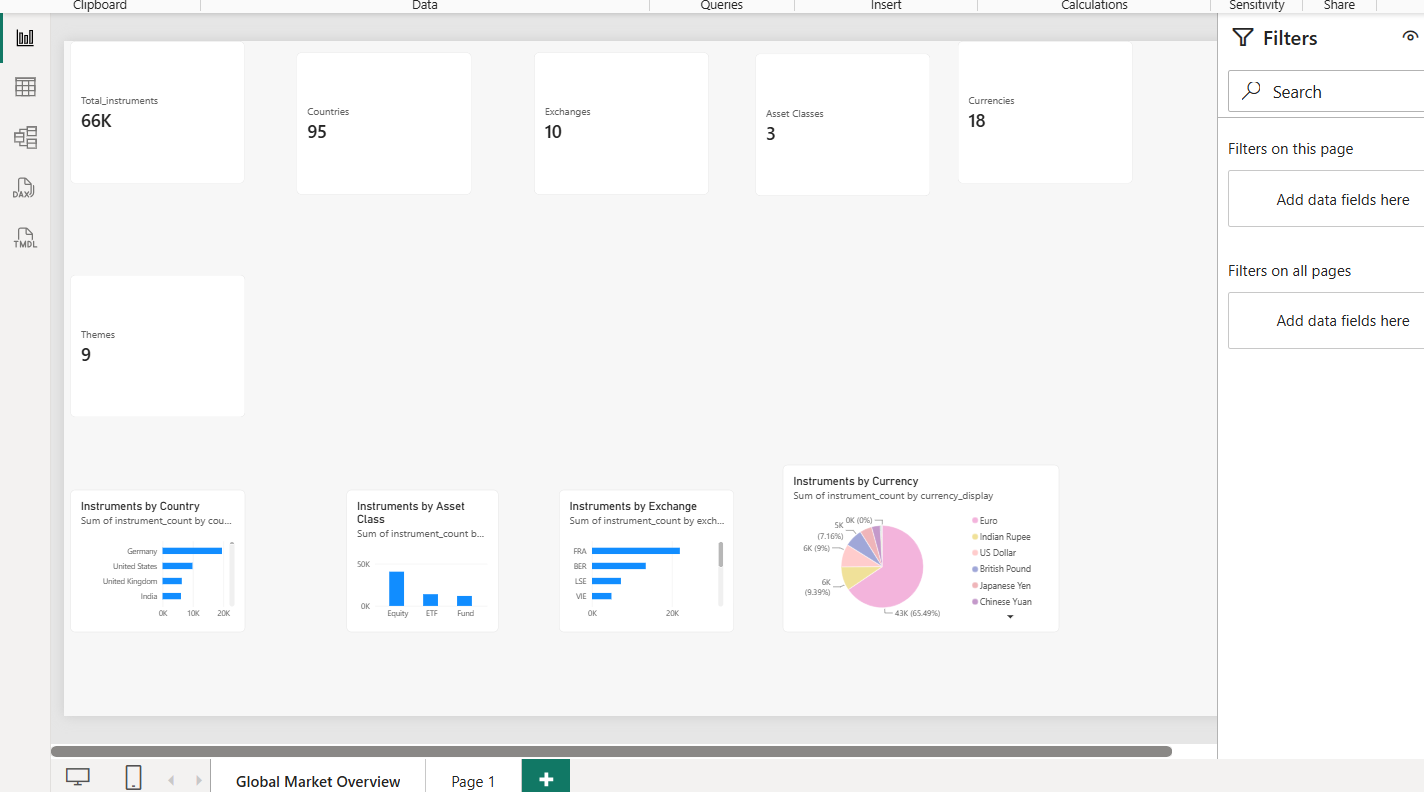

The page's visual inventory and layout, read from the dashboard file:
{"tool":"powerbi","page":{"name":"Global Market Overview","canvas":[1920,1080],"ordinal":0},"visuals":[{"type":"cardVisual","fields":{"Data":["Sum(vw_TaxonomyCoverageOverall.total_instruments)"]},"box":[10.3,0,279.9,251.1],"z":0},{"type":"cardVisual","fields":{"Data":["Count(vw_MarketByExchange.exchange_code)"]},"box":[1072.4,16.5,298.5,228.5],"z":1000},{"type":"cardVisual","fields":{"Data":["Count(vw_MarketByExchange.asset_type_name)"]},"box":[10.3,341.7,280,228],"z":2000},{"type":"cardVisual","fields":{"Data":["vw_MarketByCurrency.Currencies"]},"box":[1393.5,22.6,294.3,228.5],"z":3000},{"type":"cardVisual","fields":{"Data":["Count(vw_ThemeCoverageScore.theme_name)"]},"box":[728.6,10.3,279.9,240.8],"z":4000},{"type":"clusteredBarChart","title":"Instruments by Country","fields":{"Category":["vw_MarketByCountry.country_name"],"Y":["Sum(vw_MarketByCountry.instrument_count)"]},"box":[14.4,607.2,549.6,434.3],"z":5000},{"type":"clusteredColumnChart","title":"Instruments by Asset Class","fields":{"Category":["vw_MarketByExchange.asset_type_name"],"Y":["Sum(vw_MarketByExchange.instrument_count)"]},"box":[1270,290.2,543.4,349.9],"z":6000},{"type":"cardVisual","fields":{"Data":["vw_MarketByCountry.Countries"]},"box":[399.3,0,279.9,251.1],"z":7000},{"type":"clusteredBarChart","title":"Instruments by Exchange","fields":{"Category":["vw_MarketByExchange.exchange_code"],"Y":["Sum(vw_MarketByExchange.instrument_count)"]},"box":[578.4,290.2,578.4,366.4],"z":8000},{"type":"pieChart","title":"Instruments by Currency","fields":{"Category":["vw_MarketByCurrency.currency_display"],"Y":["Sum(vw_MarketByCurrency.instrument_count)"]},"box":[765.7,687.5,714.2,370.5],"z":9000}]}

Visuals, with their boxes on the page's 1920x1080 design canvas (x1, y1, x2, y2). These are canvas units, not pixel positions in the 1424x792 screenshot, which may show the page scaled, cropped or inside an application window:
cardVisual - Sum(vw_TaxonomyCoverageOverall.total_instruments): <box>10,0,290,251</box>
cardVisual - Count(vw_MarketByExchange.exchange_code): <box>1072,16,1371,245</box>
cardVisual - Count(vw_MarketByExchange.asset_type_name): <box>10,342,290,570</box>
cardVisual - vw_MarketByCurrency.Currencies: <box>1394,23,1688,251</box>
cardVisual - Count(vw_ThemeCoverageScore.theme_name): <box>729,10,1008,251</box>
"Instruments by Country" clusteredBarChart: <box>14,607,564,1042</box>
"Instruments by Asset Class" clusteredColumnChart: <box>1270,290,1813,640</box>
cardVisual - vw_MarketByCountry.Countries: <box>399,0,679,251</box>
"Instruments by Exchange" clusteredBarChart: <box>578,290,1157,657</box>
"Instruments by Currency" pieChart: <box>766,688,1480,1058</box>
